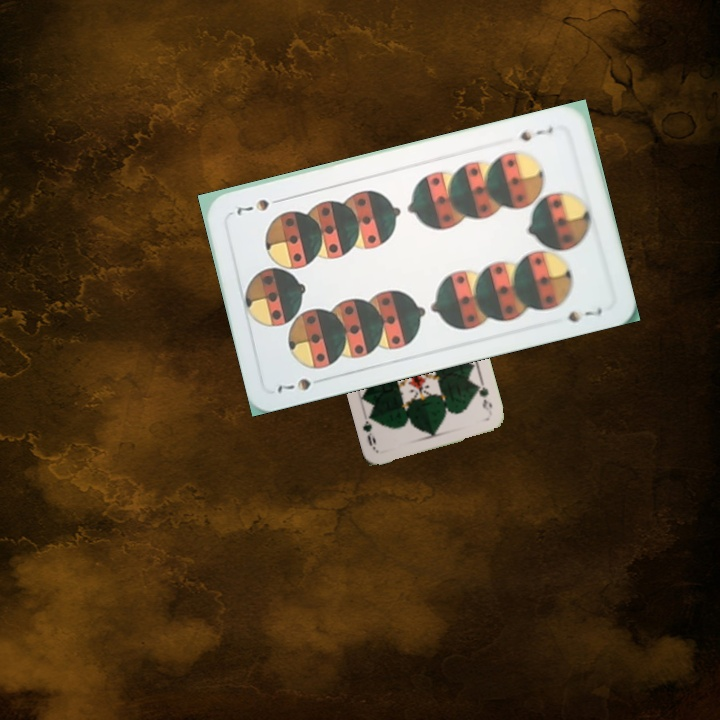G9: (472, 378, 495, 414)
S7: (273, 373, 329, 395), (515, 122, 556, 144)
